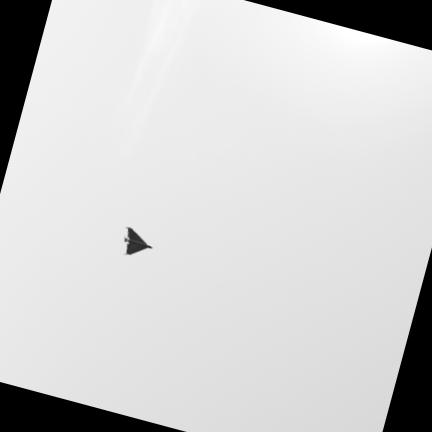Shahed: (123, 227, 150, 254)
